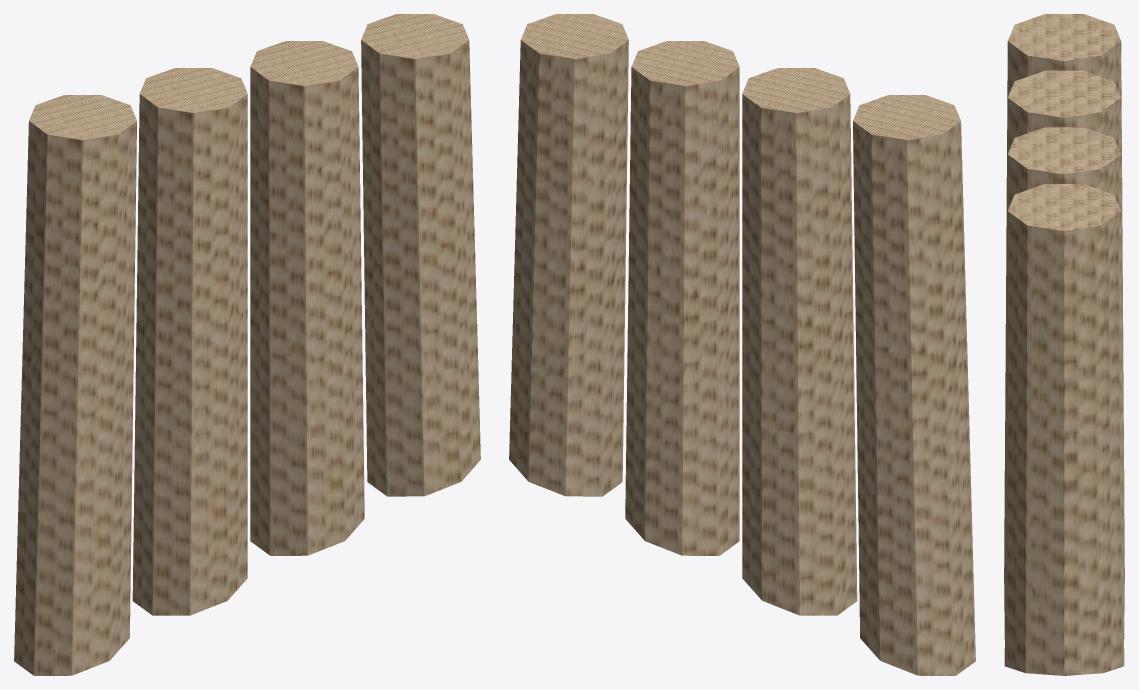
File: sam2.glb
3 views of the same model, side by side, from view 1: azimuth 30°, elevation 25°; view 2: azimuth 150°, elevation 25°; view 3: azimuth 270°, elevation 25° (orthographic). The views are drawn at different scales.
Parts seen in each view (by area): view 1: SM_2; view 2: SM_2; view 3: SM_2.
Part boxes in pixels (x1,y1,x2,y2): SM_2: (14, 14, 480, 675); SM_2: (509, 14, 975, 675); SM_2: (1004, 14, 1124, 675).
Size of the model in its own units: 0.3485 by 0.3978 by 0.0773.
Materials: 1 (1 with a texture image).
